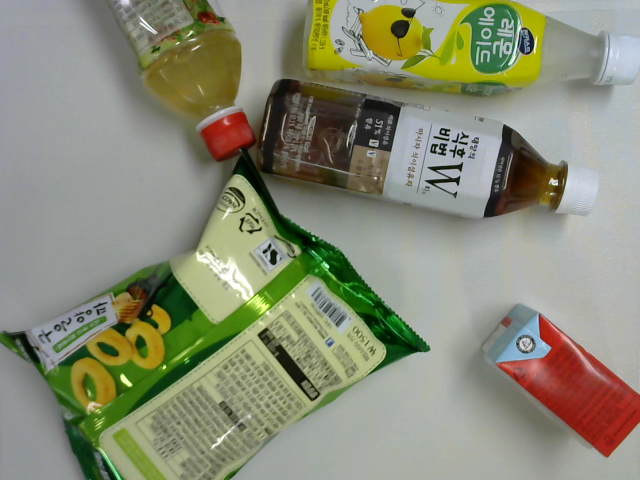Grilled_Onions: (1, 142, 433, 480)
Morning_Apple_500ml: (107, 1, 256, 167)
Picnic_Apple: (473, 300, 640, 461)
Post-meal_recipe_W_tea_500ml: (257, 77, 603, 222)
Sunkist_Lemonaid_Pet: (302, 1, 640, 90)
